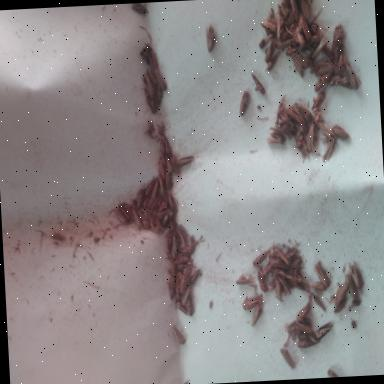pbw: (331, 22, 345, 62), (178, 262, 194, 292), (331, 282, 349, 307), (291, 52, 307, 78), (314, 260, 330, 286), (310, 37, 329, 58), (344, 62, 358, 89), (237, 88, 250, 116), (266, 124, 284, 144), (313, 72, 332, 90), (347, 275, 360, 301), (250, 70, 264, 94), (296, 101, 312, 122), (332, 72, 350, 90), (242, 294, 262, 310), (314, 322, 334, 338), (265, 50, 281, 70), (171, 324, 186, 345), (299, 14, 311, 40), (308, 20, 330, 34), (274, 102, 286, 127), (263, 38, 276, 61), (280, 347, 294, 368), (304, 122, 314, 151), (142, 72, 154, 96), (295, 132, 307, 156), (204, 26, 216, 50), (323, 44, 336, 66), (296, 302, 312, 319), (295, 273, 310, 291), (154, 68, 166, 90), (350, 266, 362, 288), (295, 321, 313, 335), (274, 246, 288, 264), (310, 90, 324, 108), (298, 0, 312, 18), (249, 305, 261, 326), (291, 258, 302, 280), (169, 236, 179, 259), (176, 154, 195, 166), (252, 252, 268, 266), (331, 124, 347, 138), (332, 298, 346, 314), (316, 60, 332, 74), (130, 2, 147, 15), (175, 225, 186, 245), (336, 44, 345, 68), (276, 268, 294, 280), (278, 276, 290, 294), (130, 206, 140, 227), (289, 0, 299, 21), (283, 247, 299, 260), (286, 322, 299, 338), (175, 300, 188, 316), (269, 256, 286, 268), (235, 274, 255, 284), (258, 272, 268, 292), (275, 38, 293, 49), (258, 34, 272, 48), (281, 23, 294, 38), (172, 253, 188, 265), (314, 295, 326, 311), (276, 2, 288, 18), (158, 173, 166, 197), (274, 12, 282, 36), (164, 154, 174, 172), (154, 216, 164, 234), (312, 108, 322, 126), (180, 288, 190, 306), (148, 181, 158, 198), (162, 208, 172, 225), (260, 263, 272, 277), (262, 20, 276, 32), (265, 26, 277, 40), (296, 30, 305, 48), (138, 210, 148, 226), (144, 206, 152, 226), (119, 204, 129, 220), (178, 244, 194, 254), (185, 296, 193, 316), (144, 179, 154, 195), (158, 160, 166, 180), (156, 200, 168, 213), (115, 210, 126, 224), (275, 278, 282, 300), (311, 280, 326, 290), (163, 135, 170, 156), (174, 277, 180, 301), (266, 7, 274, 25), (270, 274, 278, 292), (190, 267, 200, 281), (158, 148, 166, 165), (168, 278, 174, 300), (126, 204, 134, 220), (170, 156, 178, 172), (283, 124, 292, 138), (326, 368, 338, 378), (164, 168, 170, 188), (296, 340, 313, 347), (170, 260, 178, 274), (147, 100, 155, 114), (151, 48, 157, 66), (150, 222, 159, 234), (136, 194, 144, 207), (308, 333, 317, 344), (167, 192, 173, 208), (157, 83, 162, 102), (175, 271, 182, 284), (152, 95, 158, 109), (148, 57, 154, 70), (146, 199, 154, 208), (144, 66, 150, 78), (149, 73, 156, 83), (286, 48, 296, 54), (280, 0, 288, 3)
